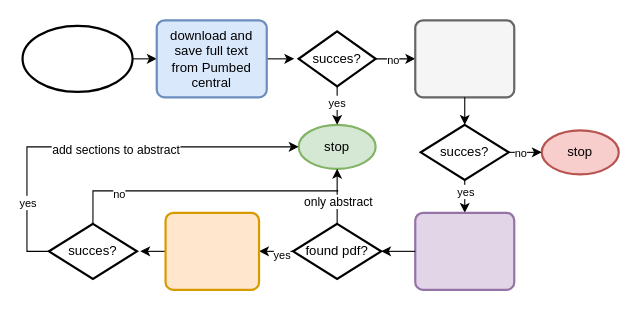
This 639x309 diagram has some shape labels left out. Each missing label, with the centre of its shape:
"download and save abstract from Pumbed" goes at (464,58).
"download and save pdf from Web" goes at (464,250).
"parse pdf with grobid" goes at (212,250).
"Pubmed_id=xxxx" goes at (77,58).
